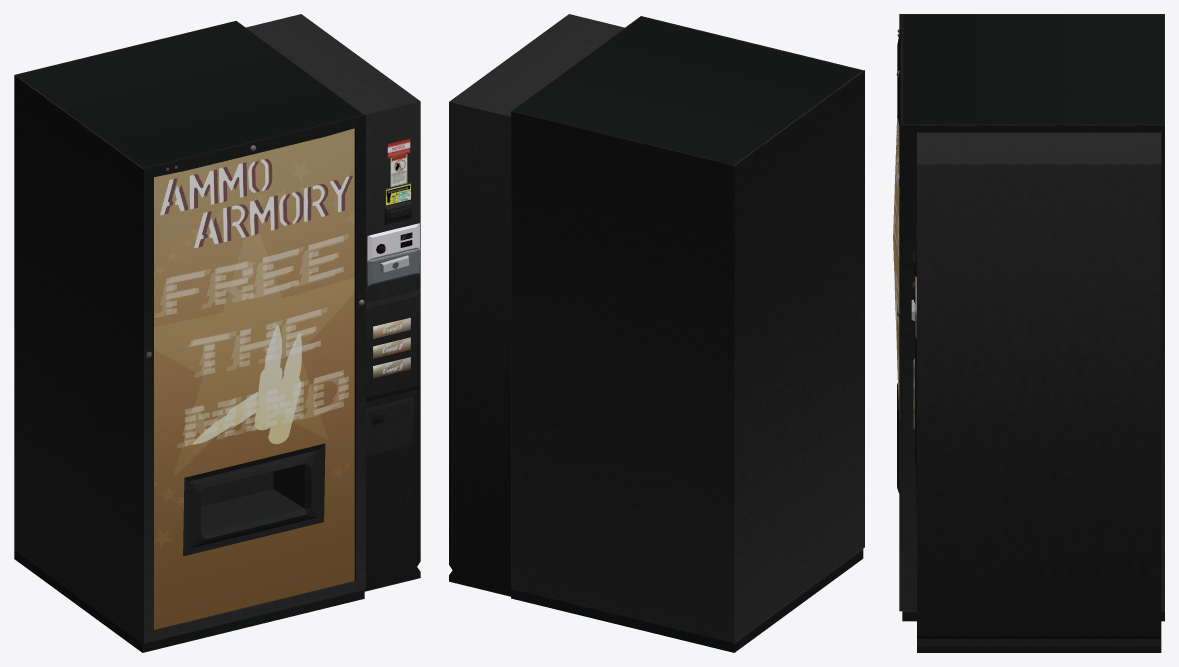
File: VendingMachine-Bullets.fbx
The picture shows the model from 3 angles, left to right: view 1: azimuth 30°, elevation 25°; view 2: azimuth 150°, elevation 25°; view 3: azimuth 270°, elevation 25°; orthographic projection. The views are drawn at different scales.
Parts seen in each view (by area): view 1: VendingMachine-Bullets; view 2: VendingMachine-Bullets; view 3: VendingMachine-Bullets.
Boxes of the visible parts, x1,y1,x2,y2 form: VendingMachine-Bullets: (14,14,420,652); VendingMachine-Bullets: (449,14,864,652); VendingMachine-Bullets: (893,14,1164,652).
Size of the model in its own units: 257 by 417 by 207.
1 material, 1 textured.
